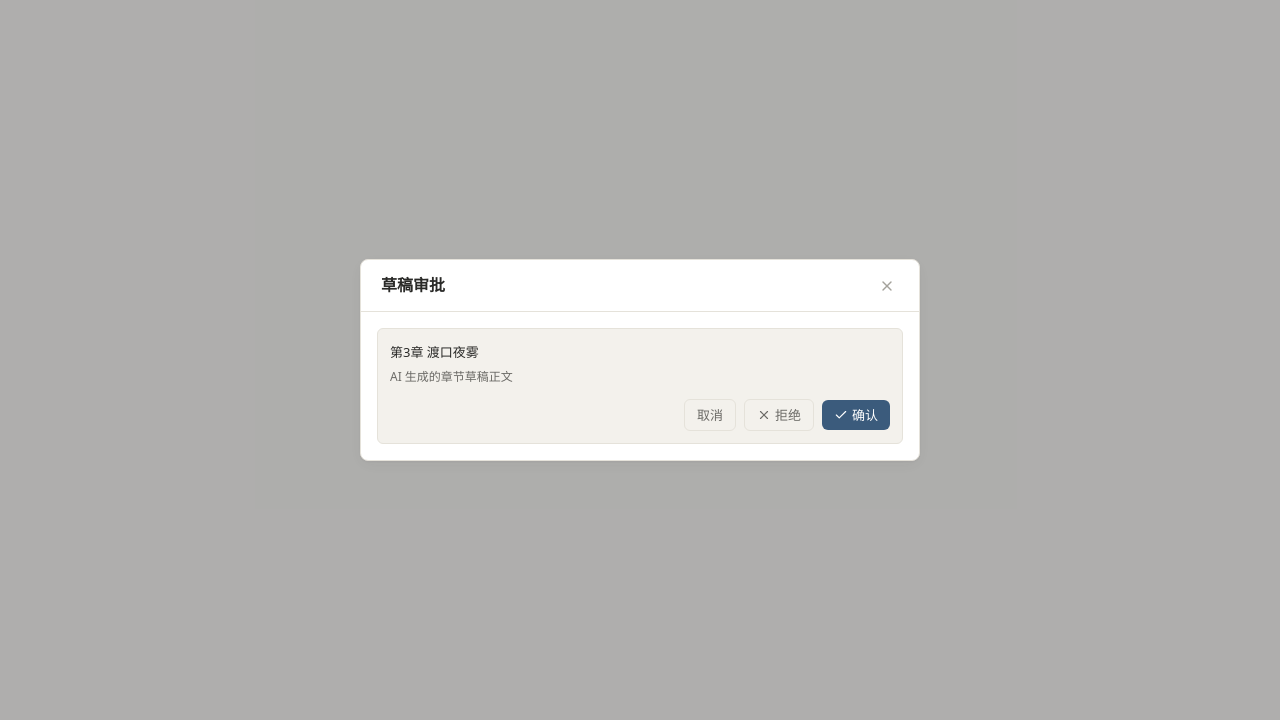
Test case: DraftApprovalDrawer — #1377 驳回入口 › 【R】驳回失败 → drafts-drawer-error 透传错误文案且不关框
Click the button with test id "drafts-drawer-reject-d1" at (779, 415), box [744,399,814,431]
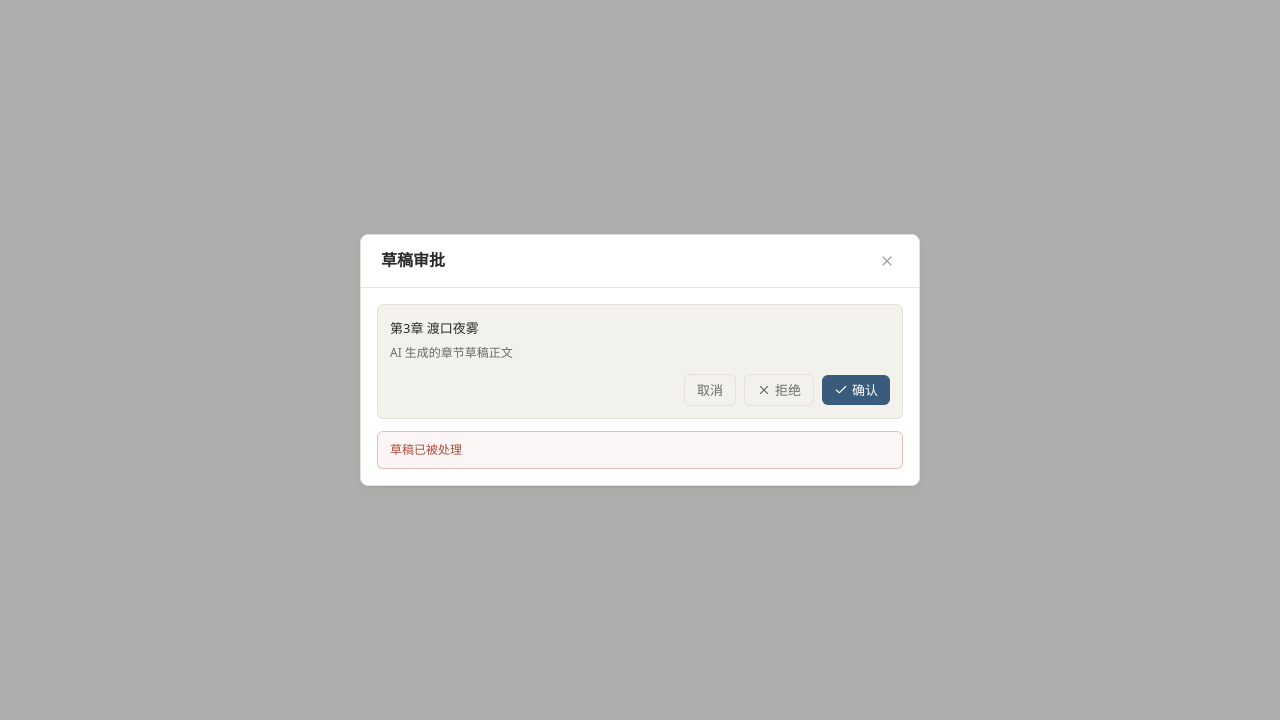
Expected: the dialog with test id "drafts-drawer" is shown, [360,234,920,486]
Now the text with test id "drafts-drawer-error" reads "草稿已被处理", box [390,441,462,458]
